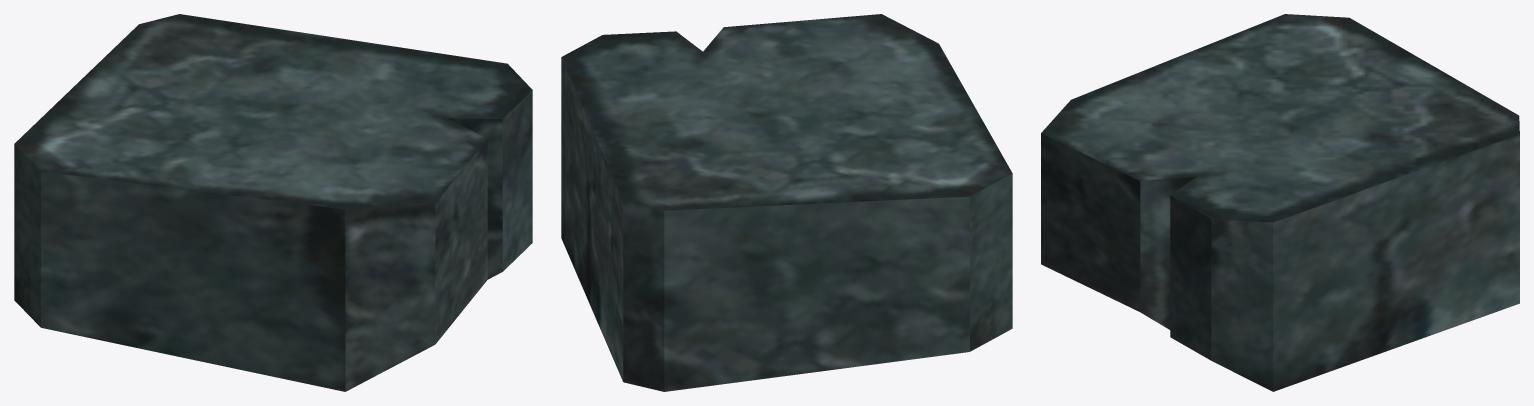
File: floor_peice2.fbx
3 renders of one model, left to right at view 1: azimuth 30°, elevation 25°; view 2: azimuth 150°, elevation 25°; view 3: azimuth 270°, elevation 25°, orthographic. The views are drawn at different scales.
Visible parts, largest first — view 1: floor_shadow; view 2: floor_shadow; view 3: floor_shadow.
Part boxes in pixels (left/top/right/bottom): floor_shadow: left=14, top=14, right=532, bottom=391; floor_shadow: left=561, top=14, right=1012, bottom=391; floor_shadow: left=1041, top=14, right=1519, bottom=391.
Size of the model in its own units: 1.34 by 0.6706 by 1.3.
